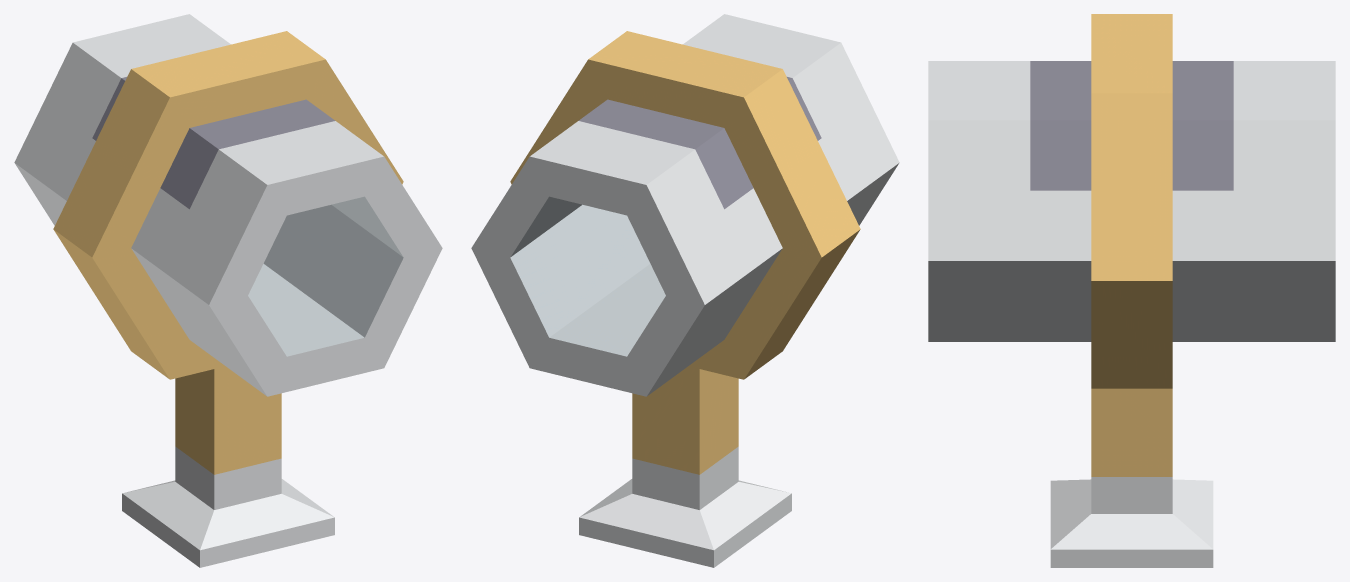
File: pipe_ringHigh.glb
The picture shows the model from 3 angles, left to right: view 1: azimuth 30°, elevation 25°; view 2: azimuth 150°, elevation 25°; view 3: azimuth 270°, elevation 25°; orthographic projection. The views are drawn at different scales.
Parts seen in each view (by area): view 1: pipe_ringHigh; view 2: pipe_ringHigh; view 3: pipe_ringHigh.
Boxes of the visible parts, x1,y1,x2,y2 form: pipe_ringHigh: (14,14,442,567); pipe_ringHigh: (471,14,899,567); pipe_ringHigh: (928,14,1335,567).
Bounding box in the file's own units: 0.9238 × 1.3 × 1.
1 material, 1 textured.
